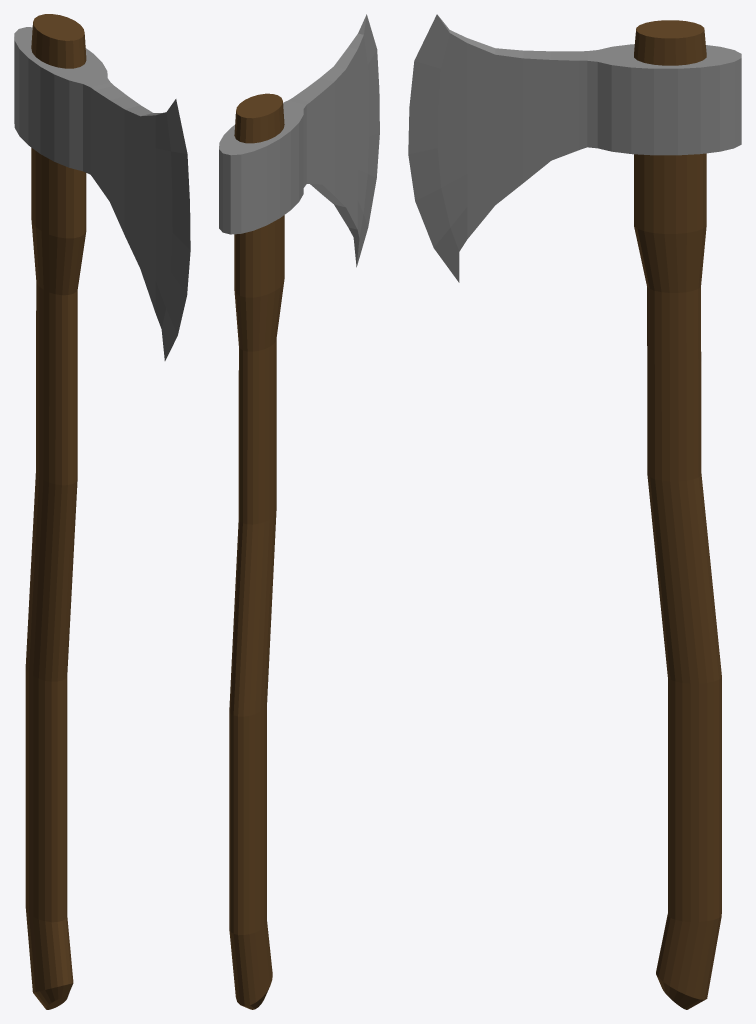
File: Axe.fbx
3 views of the same model, side by side, from view 1: azimuth 30°, elevation 25°; view 2: azimuth 150°, elevation 25°; view 3: azimuth 270°, elevation 25° (orthographic). The views are drawn at different scales.
Parts seen in each view (by area): view 1: Cylinder; view 2: Cylinder; view 3: Cylinder.
Boxes of the visible parts, left/top/right/bottom form: Cylinder: left=14, top=14, right=190, bottom=1009; Cylinder: left=219, top=14, right=379, bottom=1009; Cylinder: left=408, top=14, right=741, bottom=1009.
Bounding box in the file's own units: 4.33 × 78 × 23.69.
